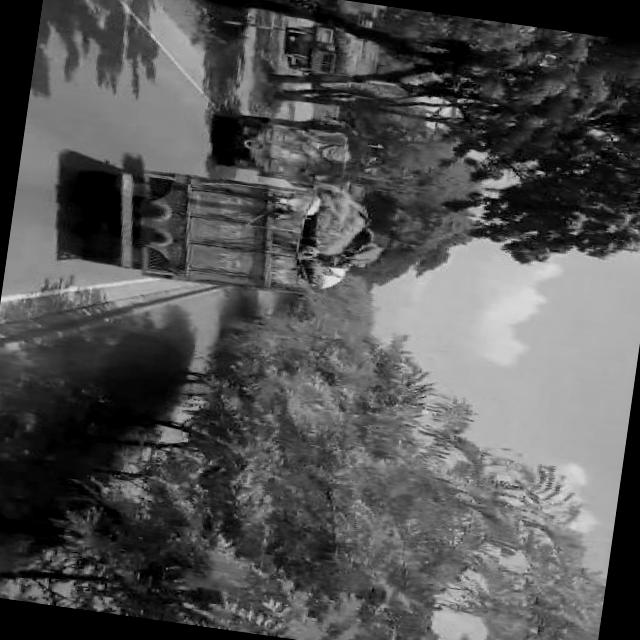truck: (68, 152, 401, 315), (204, 103, 382, 197)
